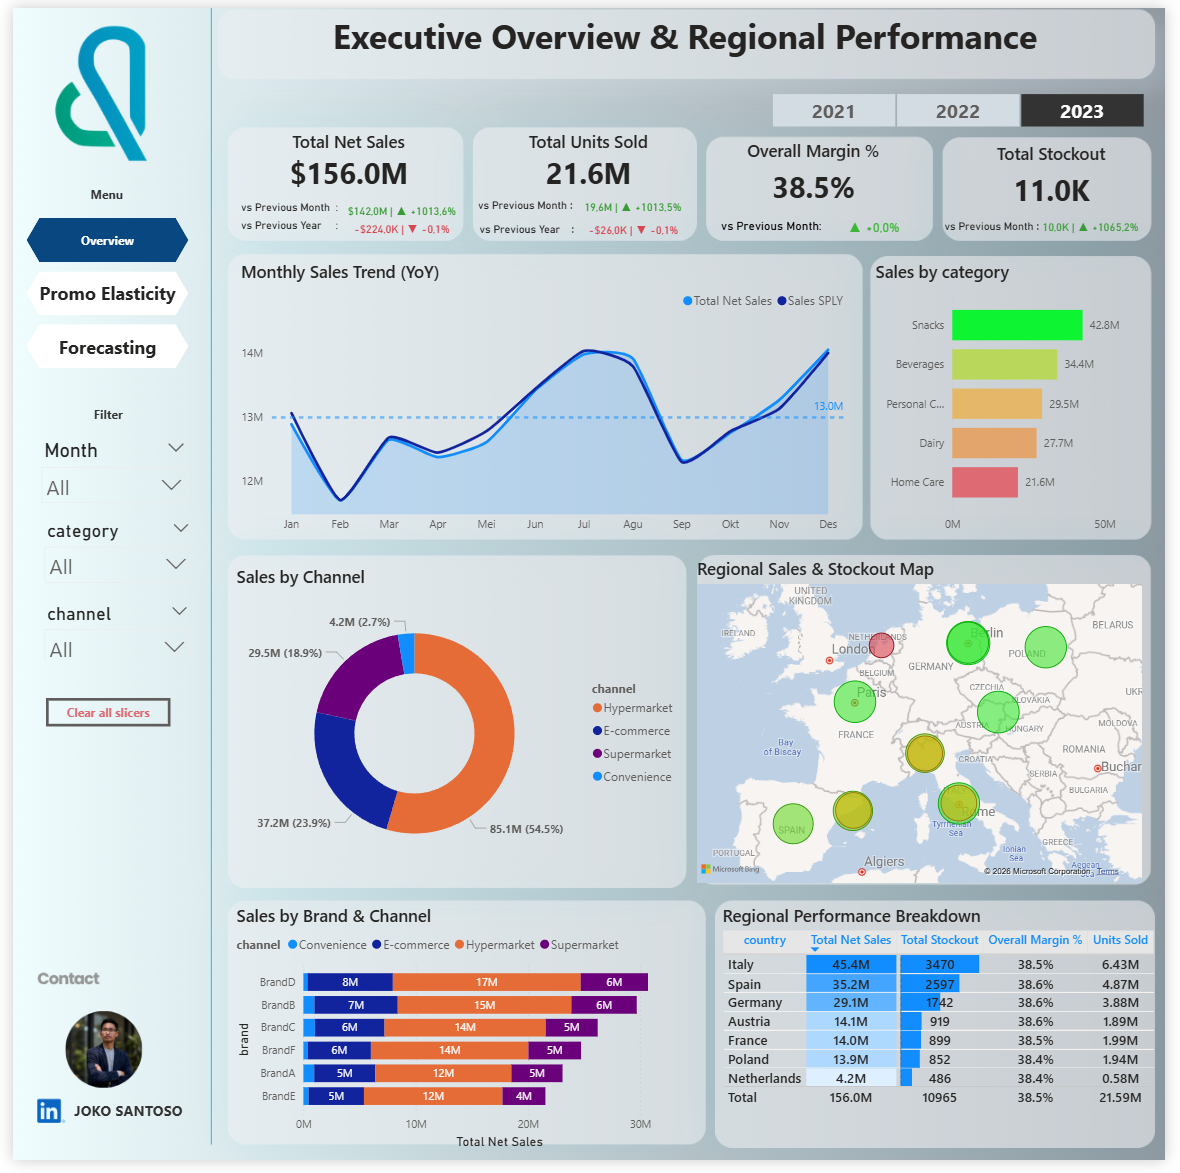

What the dashboard file says about the page in this screenshot:
{"tool":"powerbi","page":{"name":"Overview","canvas":[1280,1280],"ordinal":0},"visuals":[{"type":"textbox","box":[226.2,0,1040,76.2],"z":0},{"type":"card","title":"Total Net Sales","fields":{"Values":["_Measures.Total Net SalesTotal Net Sales"]},"box":[273.8,135,198.8,72.5],"z":1000},{"type":"card","title":"Total Stockout","fields":{"Values":["_Measures.Total Stockout Count"]},"box":[1068.3,148.3,170,83.3],"z":2000},{"type":"card","title":"Overall Margin %","fields":{"Values":["_Measures.Overall Margin %"]},"box":[801.2,145,175,83.8],"z":3000},{"type":"card","title":"Total Units Sold","fields":{"Values":["_Measures.Total Units Sold"]},"box":[531.2,135,215,71.2],"z":4000},{"type":"map","title":"Regional Sales & Stockout Map","fields":{"Size":["_Measures.Total Net Sales"],"Y":["fmcg_master_clean.latitude"],"X":["fmcg_master_clean.longitude"]},"box":[755,610,503.8,366.2],"z":5000},{"type":"clusteredBarChart","title":"Sales by category","fields":{"Y":["_Measures.Total Net Sales"],"Category":["fmcg_master_clean.category"]},"box":[953.8,280,310,311.2],"z":6000},{"type":"donutChart","title":"Sales by Channel","fields":{"Category":["fmcg_master_clean.channel"],"Y":["_Measures.Total Net Sales"]},"box":[242.5,618.8,503.8,350],"z":7000},{"type":"card","fields":{"Values":["_Measures.Unit MoM Indicator"]},"box":[619.2,206,140,22.9],"z":10000},{"type":"textbox","box":[247.7,225.1,140,32.9],"z":12000},{"type":"textbox","box":[247.7,205.7,140,34.3],"z":13000},{"type":"textbox","box":[512,203.1,130,34.3],"z":14000},{"type":"card","fields":{"Values":["_Measures.Unit YoY Indicator"]},"box":[623.7,232.9,131.2,25],"z":15000},{"type":"textbox","box":[513.3,229.2,145,28.3],"z":16000},{"type":"card","fields":{"Values":["_Measures.Sales YoY Indicator"]},"box":[362,230.8,140,22.9],"z":17000},{"type":"card","fields":{"Values":["_Measures.Sales MoM Indicator"]},"box":[362,211.4,140,24.3],"z":18000},{"type":"tableEx","title":"Regional Performance Breakdown","fields":{"Values":["fmcg_master_clean.country","_Measures.Total Net Sales","_Measures.Total Stockout Count","_Measures.Overall Margin %","_Measures.Total Units Sold"]},"box":[783.8,995,491.2,251.2],"z":19000},{"type":"lineChart","title":"Monthly Sales Trend (YoY)","fields":{"Category":["Dim_Date.MonthName"],"Y":["_Measures.Total Net Sales","_Measures.Sales SPLY"]},"box":[247.5,280,683.8,311.2],"z":20000},{"type":"barChart","title":"Sales by Brand & Channel","fields":{"Y":["_Measures.Total Net Sales"],"Category":["fmcg_master_clean.brand"],"Series":["fmcg_master_clean.channel"]},"box":[242.5,995,532.5,276.2],"z":25000},{"type":"slicer","fields":{"Values":["Dim_Date.Year"]},"box":[818.3,88.3,461.7,46.7],"z":25001},{"type":"slicer","fields":{"Values":["Dim_Date.MonthName"]},"box":[21.1,472.8,181.7,90],"z":25002},{"type":"slicer","fields":{"Values":["fmcg_master_clean.channel"]},"box":[24.4,654.4,181.7,70],"z":25003},{"type":"slicer","fields":{"Values":["fmcg_master_clean.category"]},"box":[24.4,562.8,183.3,78.3],"z":25004},{"type":"pageNavigator","box":[15,233.3,180,168.3],"z":25005},{"type":"textbox","box":[58.3,191.7,91.7,31.7],"z":25006},{"type":"actionButton","box":[36.7,766.7,138.3,31.7],"z":25007},{"type":"textbox","box":[60,436.7,91.7,31.7],"z":25008},{"type":"card","fields":{"Values":["mes dash 2.Overall Margin Indicator"]},"box":[917.5,230,78.9,24.4],"z":25009},{"type":"textbox","box":[782.5,226.7,155,30],"z":25010},{"type":"textbox","box":[53.3,1208.3,150,36.7],"z":25011},{"type":"textbox","box":[1030,226.2,123.8,35],"z":25013},{"type":"card","fields":{"Values":["_Measures.Stockout MoM Indicator"]},"box":[1126.2,228.8,140,22.5],"z":25014}]}

Visuals, with their boxes in screenshot pixels (x1, y1, x2, y2), scaled from the page's 1280x1280 canvas onto the 1180x1173 screenshot:
textbox: <bbox>209, 0, 1167, 70</bbox>
"Total Net Sales" card: <bbox>252, 124, 436, 190</bbox>
"Total Stockout" card: <bbox>985, 136, 1142, 212</bbox>
"Overall Margin %" card: <bbox>739, 133, 900, 210</bbox>
"Total Units Sold" card: <bbox>490, 124, 688, 189</bbox>
"Regional Sales & Stockout Map" map: <bbox>696, 559, 1160, 895</bbox>
"Sales by category" clusteredBarChart: <bbox>879, 257, 1165, 542</bbox>
"Sales by Channel" donutChart: <bbox>224, 567, 688, 888</bbox>
card - _Measures.Unit MoM Indicator: <bbox>571, 189, 700, 210</bbox>
textbox: <bbox>228, 206, 357, 236</bbox>
textbox: <bbox>228, 189, 357, 220</bbox>
textbox: <bbox>472, 186, 592, 218</bbox>
card - _Measures.Unit YoY Indicator: <bbox>575, 213, 696, 236</bbox>
textbox: <bbox>473, 210, 607, 236</bbox>
card - _Measures.Sales YoY Indicator: <bbox>334, 212, 463, 232</bbox>
card - _Measures.Sales MoM Indicator: <bbox>334, 194, 463, 216</bbox>
"Regional Performance Breakdown" tableEx: <bbox>723, 912, 1175, 1142</bbox>
"Monthly Sales Trend (YoY)" lineChart: <bbox>228, 257, 859, 542</bbox>
"Sales by Brand & Channel" barChart: <bbox>224, 912, 714, 1165</bbox>
slicer - Dim_Date.Year: <bbox>754, 81, 1179, 124</bbox>
slicer - Dim_Date.MonthName: <bbox>19, 433, 187, 516</bbox>
slicer - fmcg_master_clean.channel: <bbox>22, 600, 190, 664</bbox>
slicer - fmcg_master_clean.category: <bbox>22, 516, 191, 588</bbox>
pageNavigator: <bbox>14, 214, 180, 368</bbox>
textbox: <bbox>54, 176, 138, 205</bbox>
actionButton: <bbox>34, 703, 161, 732</bbox>
textbox: <bbox>55, 400, 140, 429</bbox>
card - mes dash 2.Overall Margin Indicator: <bbox>846, 211, 919, 233</bbox>
textbox: <bbox>721, 208, 864, 235</bbox>
textbox: <bbox>49, 1107, 187, 1141</bbox>
textbox: <bbox>950, 207, 1064, 239</bbox>
card - _Measures.Stockout MoM Indicator: <bbox>1038, 210, 1167, 230</bbox>
